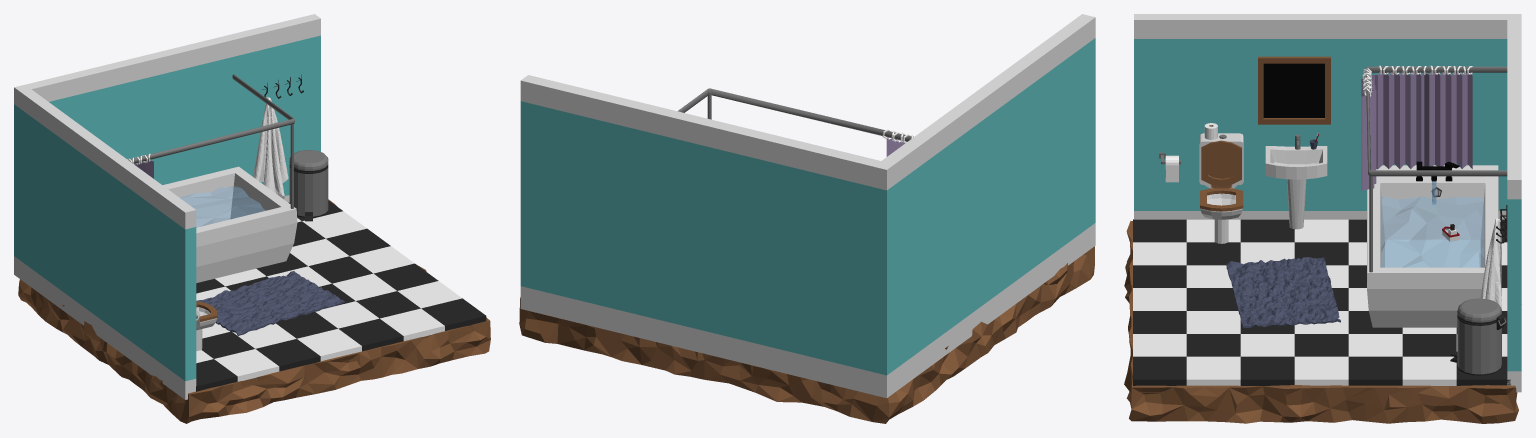
Rendered from toilet.glb.
3 views of the same model, side by side, from view 1: azimuth 30°, elevation 25°; view 2: azimuth 150°, elevation 25°; view 3: azimuth 270°, elevation 25° (orthographic). The views are drawn at different scales.
Parts seen in each view (by area): view 1: Wall2, Wall1, Floor, Earth, Bathtub, Plane.001, Binmain, water, Plane.002, Showerpole; view 2: Wall1, Wall2, Earth, Showerpole; view 3: Wall2, Floor, Bathtub, Earth, water, Plane.001, Wall1, Cube.001, curtain, curtainb, Binmain, Sink (+10 smaller).
Part boxes in pixels (box(x1,y1,x2,y2)): Wall2: box(14, 84, 196, 399); Wall1: box(25, 14, 320, 202); Floor: box(196, 200, 486, 391); Earth: box(18, 199, 490, 423); Bathtub: box(162, 166, 297, 282); Plane.001: box(196, 271, 344, 335); Binmain: box(289, 150, 328, 221); water: box(180, 186, 265, 227); Plane.002: box(253, 97, 288, 198); Showerpole: box(128, 74, 294, 163); Wall1: box(520, 75, 880, 394); Wall2: box(873, 14, 1095, 398); Earth: box(519, 246, 1094, 423); Showerpole: box(678, 88, 913, 141); Wall2: box(1134, 14, 1521, 219); Floor: box(1133, 219, 1510, 392); Bathtub: box(1367, 165, 1498, 327); Earth: box(1124, 221, 1518, 423); water: box(1381, 196, 1483, 267); Plane.001: box(1226, 257, 1340, 327); Wall1: box(1507, 19, 1521, 392); Cube.001: box(1258, 56, 1330, 124); curtain: box(1371, 72, 1424, 169); curtainb: box(1424, 72, 1472, 168); Binmain: box(1450, 298, 1504, 375); Sink: box(1265, 146, 1327, 229).
Size of the model in its own units: 3.19 by 2.06 by 3.09.
